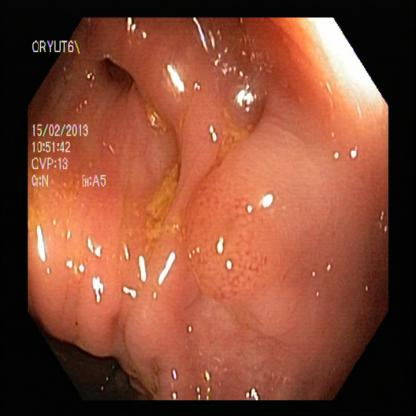Labels: (28, 34, 111, 194)
Polyps: (205, 131, 337, 326)
